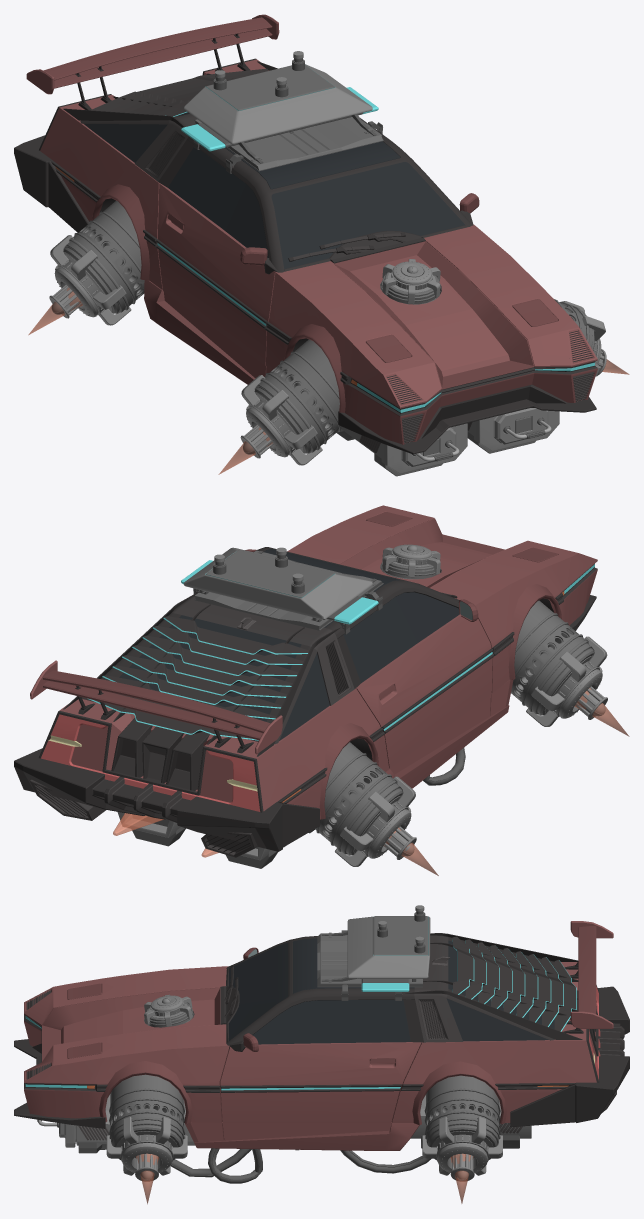
The model's file is Car.fbx.
3 renders of one model, top to bottom at view 1: azimuth 30°, elevation 25°; view 2: azimuth 150°, elevation 25°; view 3: azimuth 270°, elevation 25°, orthographic. The views are drawn at different scales.
Parts seen in each view (by area): view 1: pCube69, pCube63, pCylinder76, pCube152, pCylinder77, pPlane3, pCube394, pCube395, pCube148, pCube391, pCube81, pCylinder152 (+17 smaller); view 2: pCube69, pCube391, pCylinder76, pCylinder77, pCube152, pPlane3, pCube63, pCube255, pCube395, pPlane9, pCube390, pCube81 (+25 smaller); view 3: pCube69, pCube63, pPlane3, pCylinder74, pCylinder75, pCube395, pCube391, pCube152, pCylinder152, pPlane9, pCube396, pCube397 (+25 smaller).
Boxes of the visible parts, x1=… form: pCube69: x1=40, y1=59, x2=597, y2=444; pCube63: x1=80, y1=112, x2=471, y2=272; pCylinder76: x1=240, y1=339, x2=342, y2=465; pCube152: x1=183, y1=64, x2=372, y2=144; pCylinder77: x1=49, y1=200, x2=144, y2=325; pPlane3: x1=158, y1=136, x2=271, y2=262; pCube394: x1=336, y1=408, x2=559, y2=476; pCube395: x1=144, y1=280, x2=272, y2=384; pCube148: x1=194, y1=117, x2=383, y2=171; pCube391: x1=14, y1=135, x2=88, y2=232; pCube81: x1=43, y1=17, x2=272, y2=80; pCylinder152: x1=92, y1=184, x2=345, y2=412; pCube69: x1=50, y1=505, x2=597, y2=819; pCube391: x1=14, y1=748, x2=319, y2=851; pCylinder76: x1=511, y1=600, x2=607, y2=726; pCylinder77: x1=315, y1=742, x2=416, y2=866; pCube152: x1=183, y1=547, x2=372, y2=619; pPlane3: x1=336, y1=587, x2=459, y2=688; pCube63: x1=82, y1=547, x2=459, y2=744; pCube255: x1=111, y1=717, x2=209, y2=790; pCube395: x1=385, y1=679, x2=513, y2=788; pPlane9: x1=172, y1=596, x2=354, y2=705; pCube390: x1=41, y1=714, x2=260, y2=811; pCube81: x1=43, y1=670, x2=270, y2=733; pCube69: x1=24, y1=962, x2=596, y2=1122; pCube63: x1=226, y1=936, x2=554, y2=1044; pPlane3: x1=240, y1=996, x2=423, y2=1044; pCylinder74: x1=106, y1=1074, x2=187, y2=1181; pCylinder75: x1=422, y1=1075, x2=502, y2=1181; pCube395: x1=185, y1=1122, x2=419, y2=1150; pCube391: x1=510, y1=986, x2=629, y2=1127; pCube152: x1=347, y1=916, x2=430, y2=978; pCylinder152: x1=99, y1=1061, x2=506, y2=1125; pPlane9: x1=414, y1=935, x2=462, y2=1042; pCube396: x1=96, y1=1083, x2=575, y2=1092; pCube397: x1=405, y1=933, x2=582, y2=1039.
Size of the model in its own units: 124 by 87.95 by 195.
